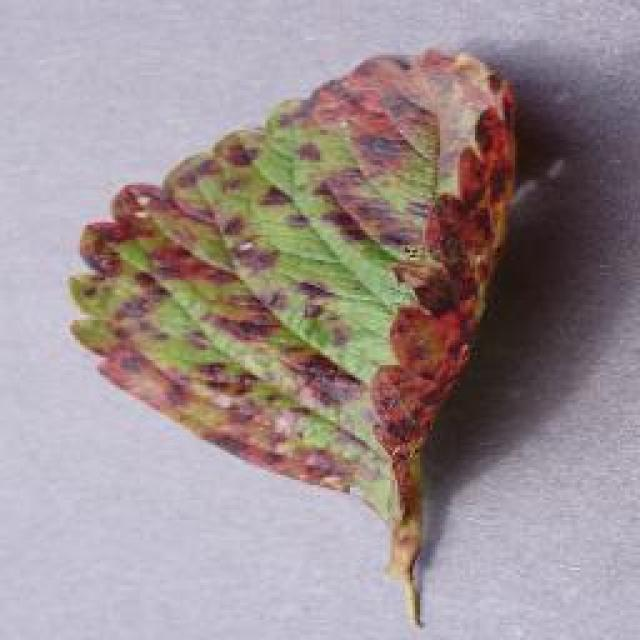Strawberry leaf scorch: (122, 57, 475, 475)
